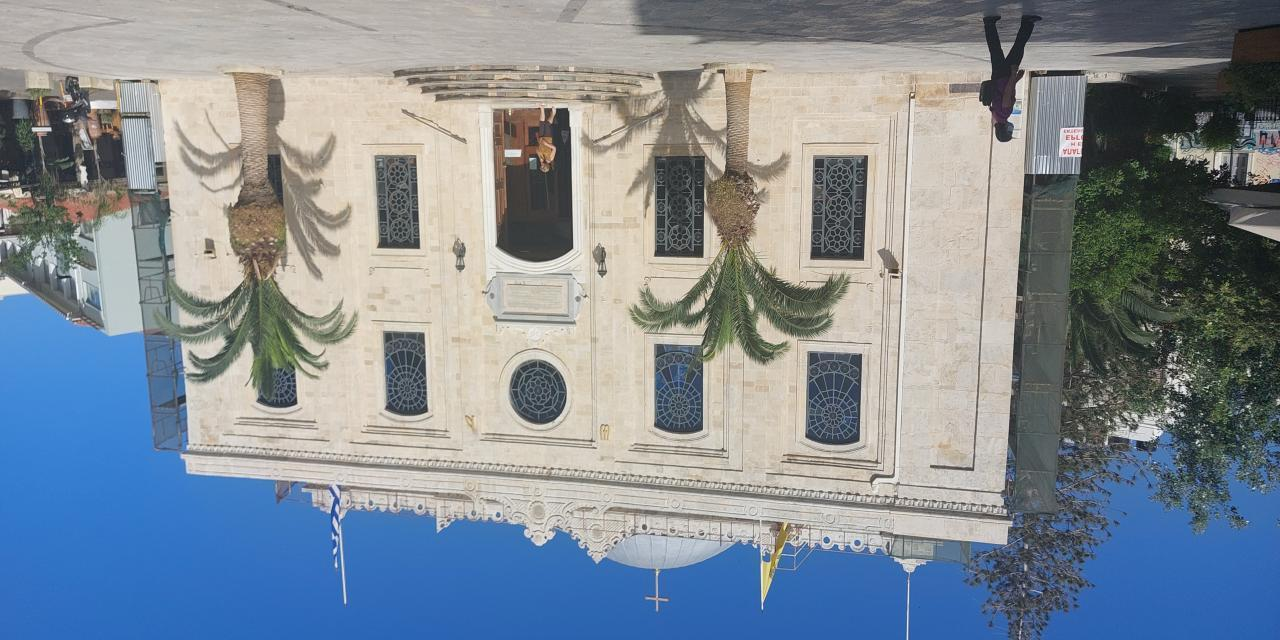Agios Titos: (180, 69, 1031, 550)
